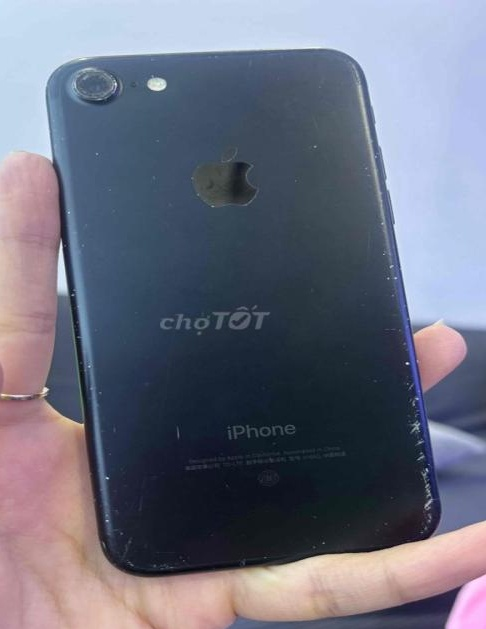scratch: (85, 452, 194, 575), (384, 321, 441, 541), (144, 48, 352, 83), (57, 199, 95, 345), (178, 155, 258, 210), (75, 354, 117, 448), (367, 208, 401, 300), (63, 58, 117, 107), (141, 123, 171, 205), (46, 108, 70, 156), (295, 134, 329, 154), (237, 548, 273, 566), (357, 155, 379, 179), (305, 533, 330, 550), (84, 140, 105, 159), (173, 422, 183, 440)
